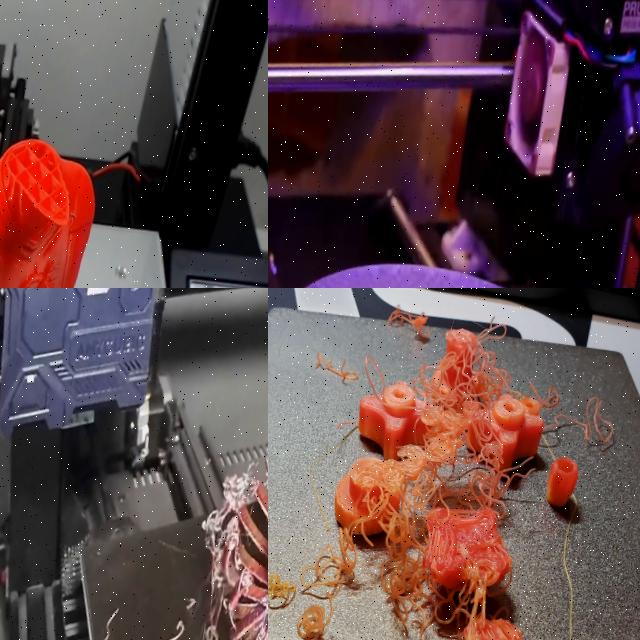spaghetti: (354, 362, 485, 640), (470, 356, 551, 520), (42, 587, 260, 640), (554, 386, 627, 454), (304, 514, 362, 599), (304, 338, 369, 404), (374, 288, 440, 351), (448, 310, 519, 366), (268, 556, 303, 615), (294, 605, 337, 640)
